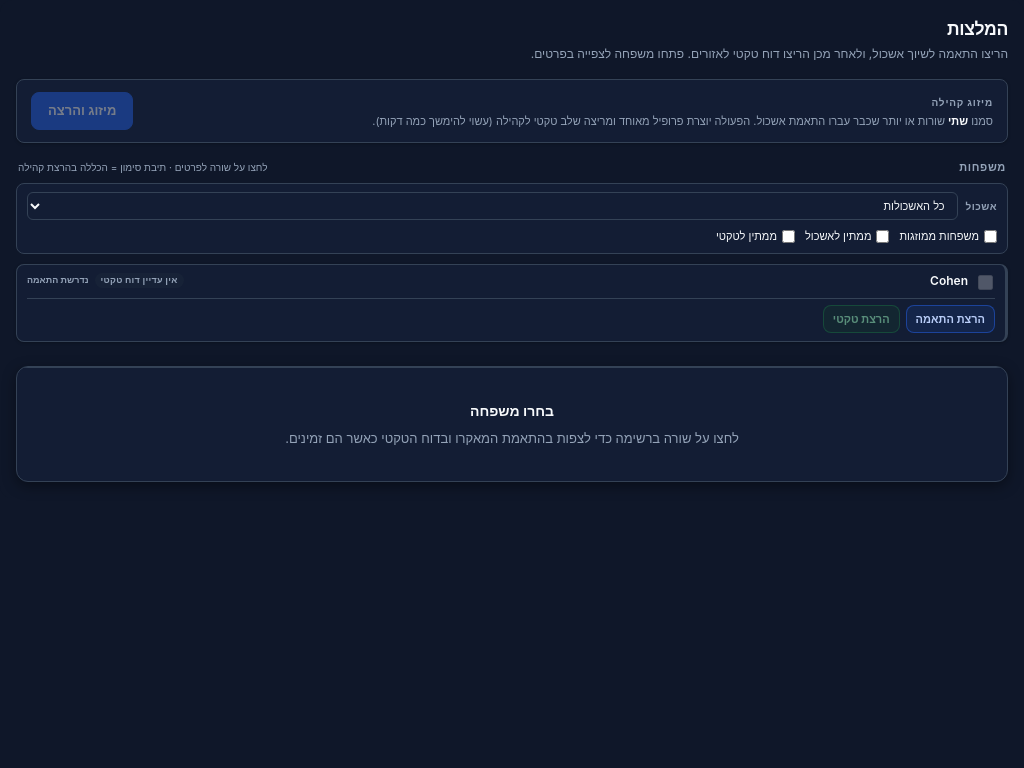
Test: RecommendationsPanel integration › shows action error when mocked matching fails
Click the button "הרצת התאמה": (950, 319) [906, 305, 995, 333]
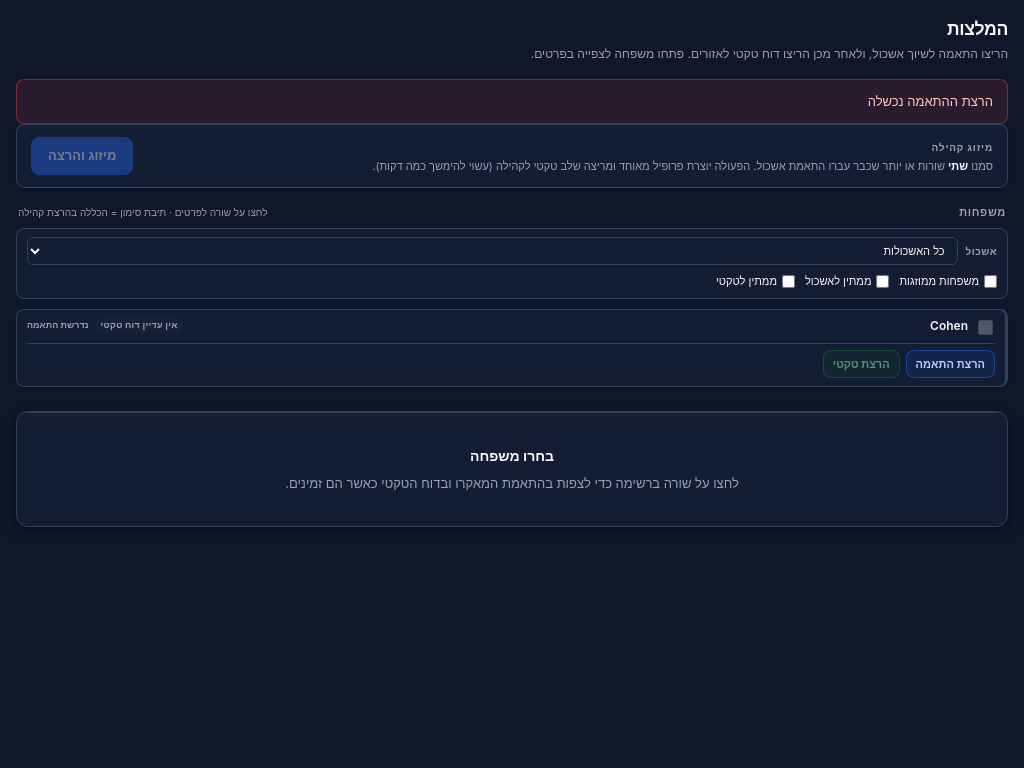
Check: the message reads "הרצת ההתאמה נכשלה", box [868, 93, 993, 109]
